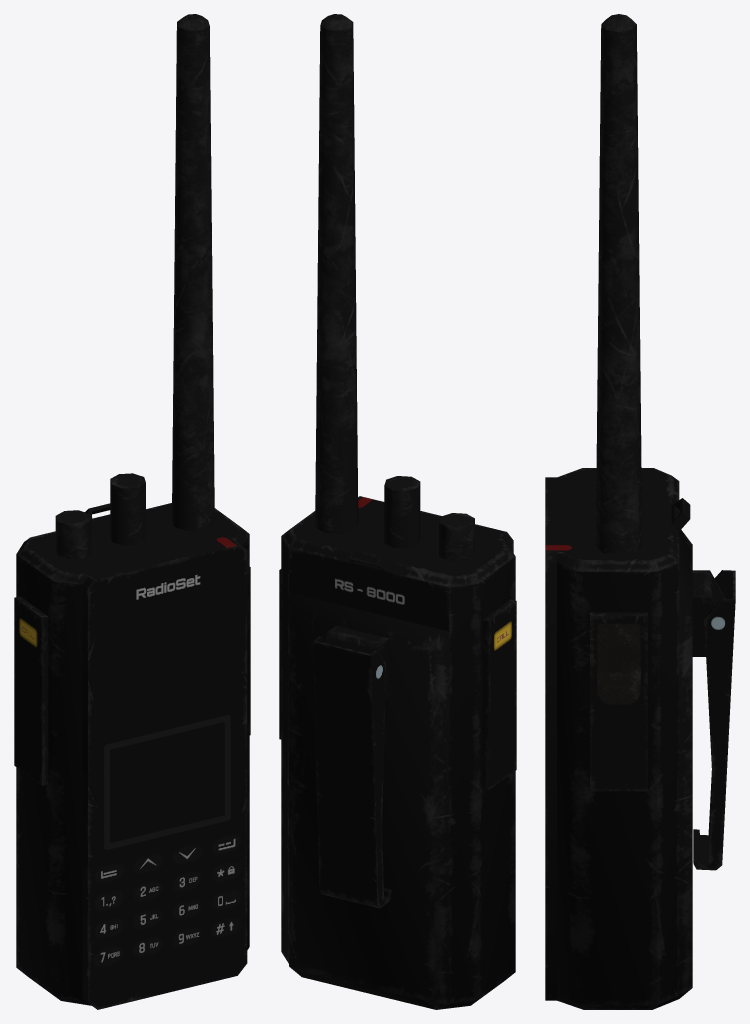
File: RadioSet.fbx
The picture shows the model from 3 angles, left to right: view 1: azimuth 30°, elevation 25°; view 2: azimuth 150°, elevation 25°; view 3: azimuth 270°, elevation 25°; orthographic projection. The views are drawn at different scales.
Visible parts, largest first — view 1: RadioSet; view 2: RadioSet; view 3: RadioSet.
Part boxes in pixels (x1=…): RadioSet: x1=14, y1=14, x2=250, y2=1009; RadioSet: x1=279, y1=14, x2=516, y2=1009; RadioSet: x1=545, y1=14, x2=735, y2=1009.
Size of the model in its own units: 6.49 by 27.8 by 4.91.
